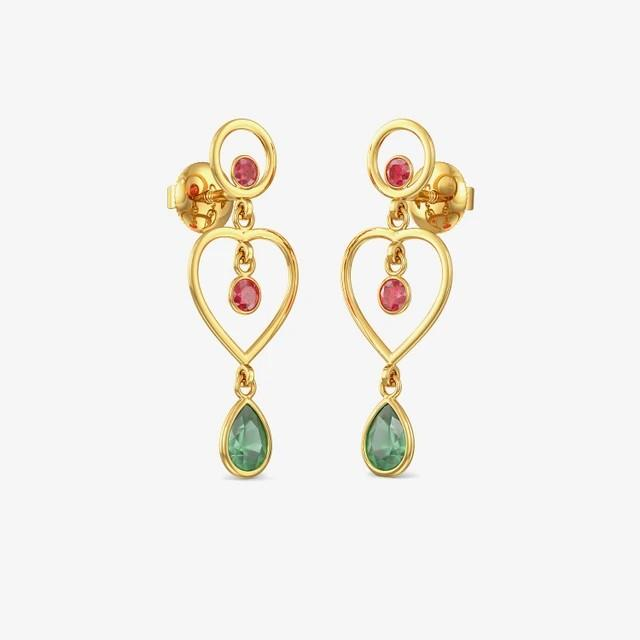missing gem: (438, 177, 456, 197)
